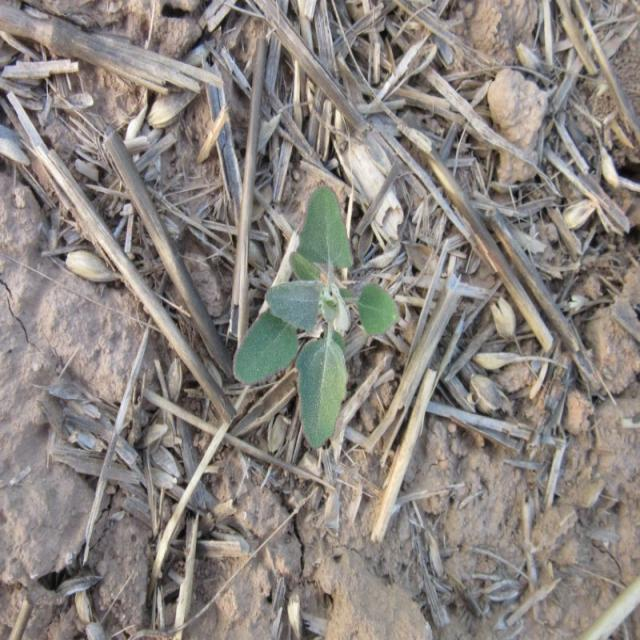ca: (236, 186, 399, 440)
